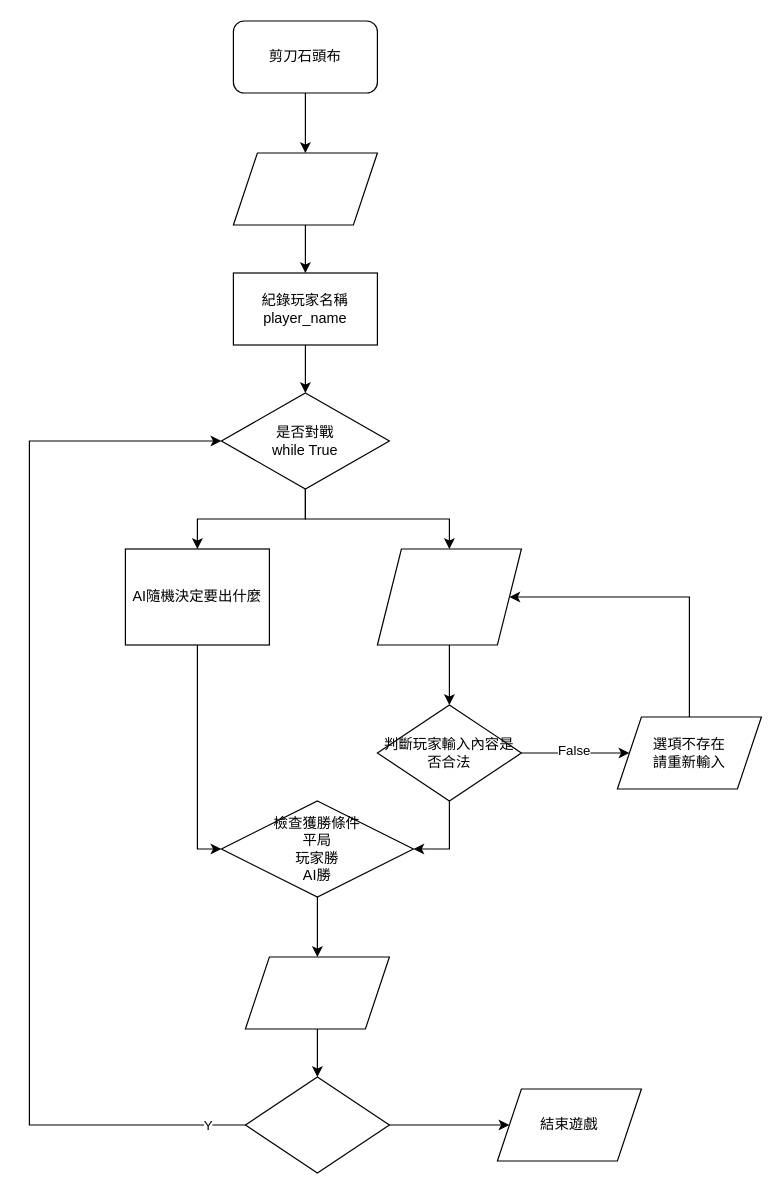
Image size: 782x1194. Some labels were removed from this diagram. Each missing label, with the centre of its shape:
檢查玩家決定: pixel 316 1124
輸出: 您想出什麼? 1 = 剪刀 2= 石頭 3 = 布: pixel 448 596
輸出結果 詢問是否要繼續 Y/N: pixel 316 992
輸出遊戲介面: 請輸入玩家姓名: pixel 304 188
